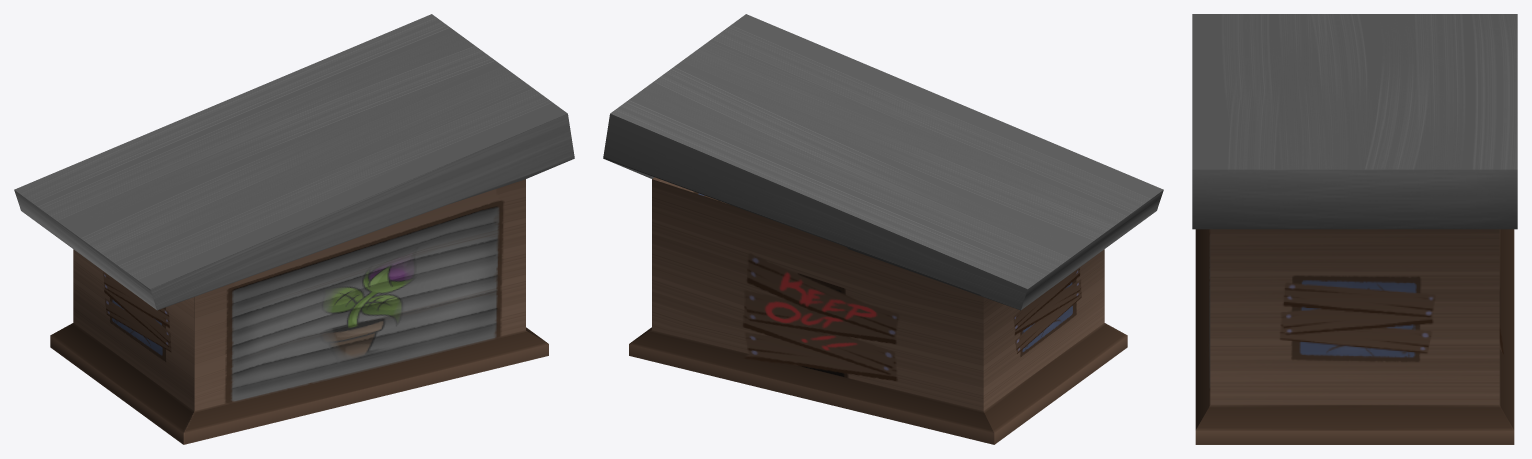
Rendered from Casa.fbx.
The picture shows the model from 3 angles, left to right: view 1: azimuth 30°, elevation 25°; view 2: azimuth 150°, elevation 25°; view 3: azimuth 270°, elevation 25°; orthographic projection. The views are drawn at different scales.
Parts seen in each view (by area): view 1: pCube3; view 2: pCube3; view 3: pCube3.
Boxes of the visible parts, <box> form: pCube3: <box>14,14,574,444</box>; pCube3: <box>603,14,1163,444</box>; pCube3: <box>1192,14,1517,444</box>.
Bounding box in the file's own units: 5.97 × 3.21 × 3.31.
Materials: 1 (1 with a texture image).
